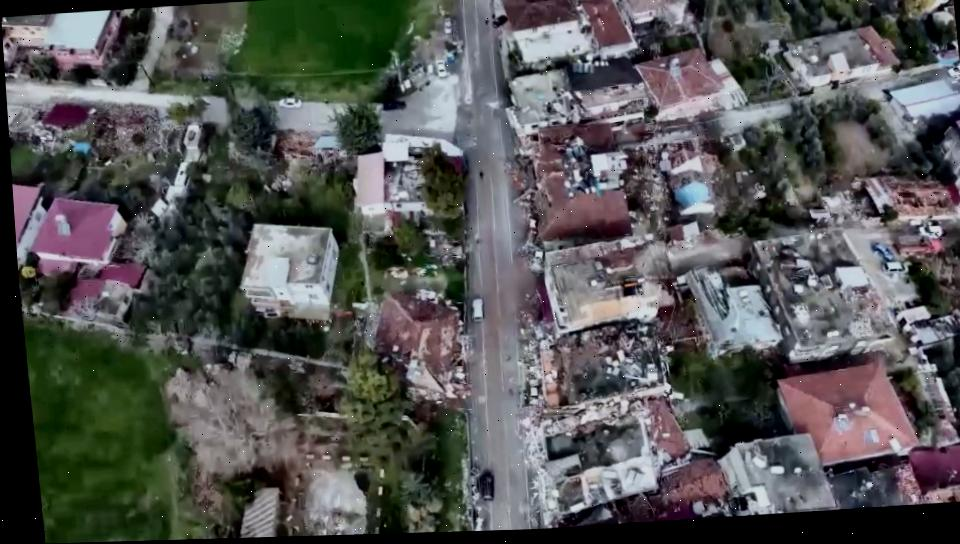kapali: (500, 105, 751, 169)
